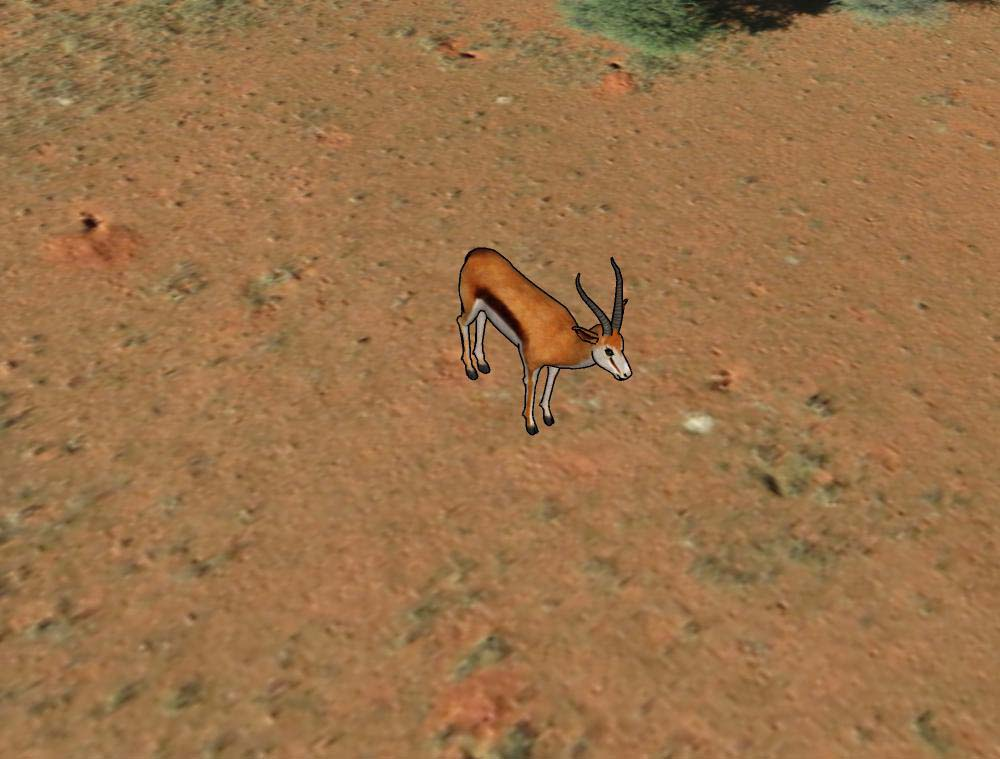springbok: (450, 244, 633, 438)
